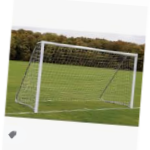goals: (16, 40, 139, 112)
